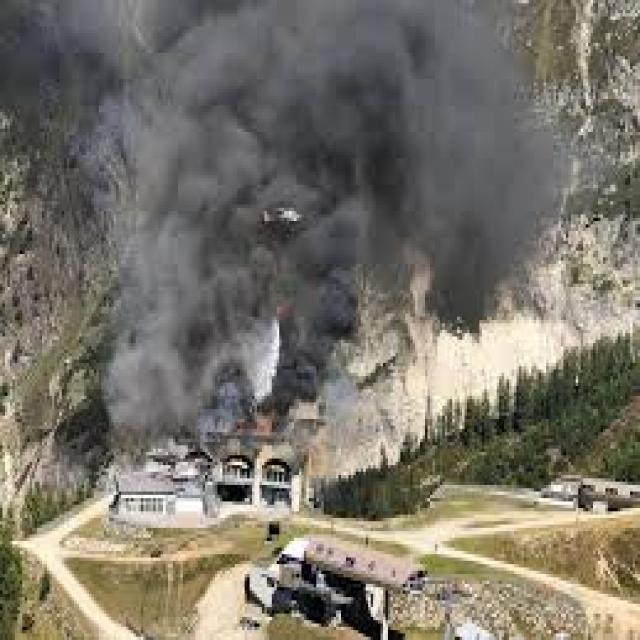Smoke: (94, 3, 542, 446)
